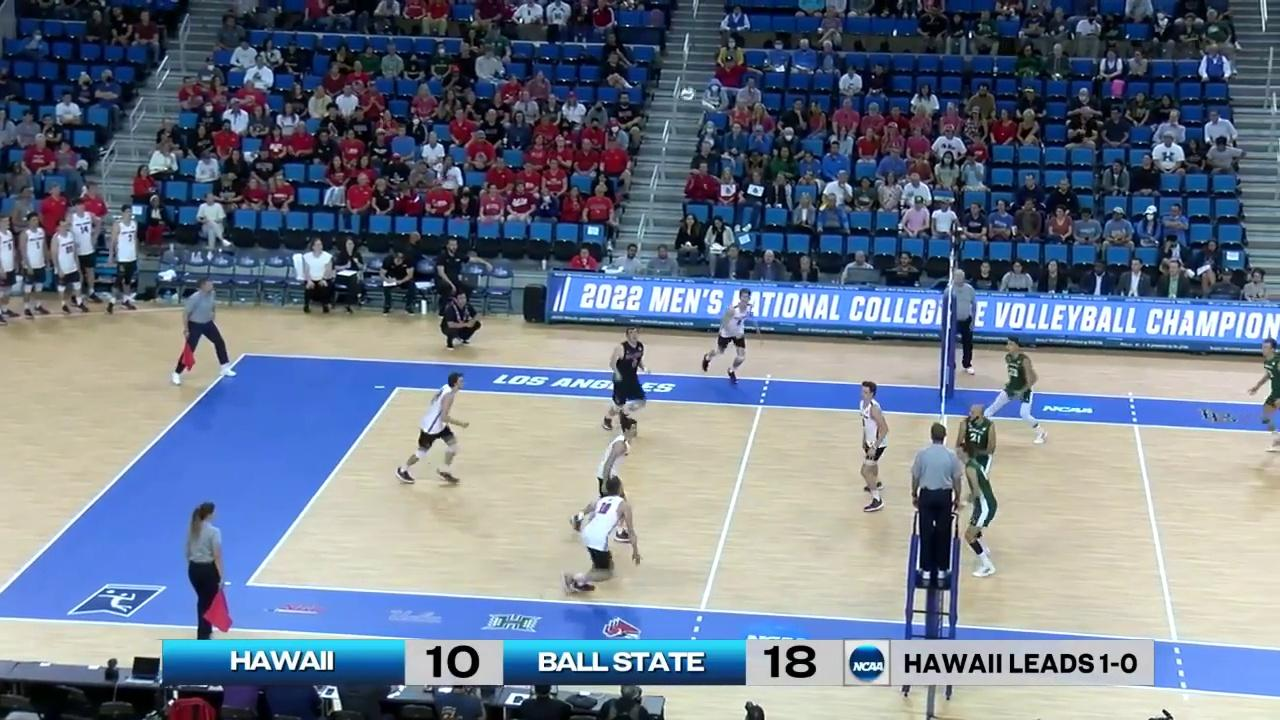player: (561, 477, 631, 597), (571, 422, 638, 543), (397, 372, 468, 485), (987, 340, 1050, 446), (601, 324, 649, 438), (958, 440, 997, 579), (701, 288, 757, 384), (857, 381, 890, 510), (961, 404, 996, 513), (1251, 340, 1280, 462)
refree: (912, 421, 956, 583), (185, 505, 231, 637), (175, 278, 230, 382), (945, 269, 979, 376)
